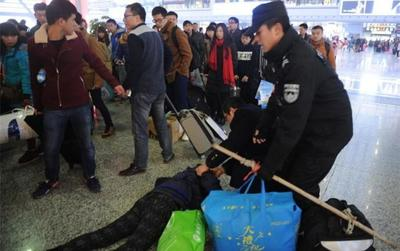10+: (1, 1, 399, 251)
down: (54, 158, 230, 251)
